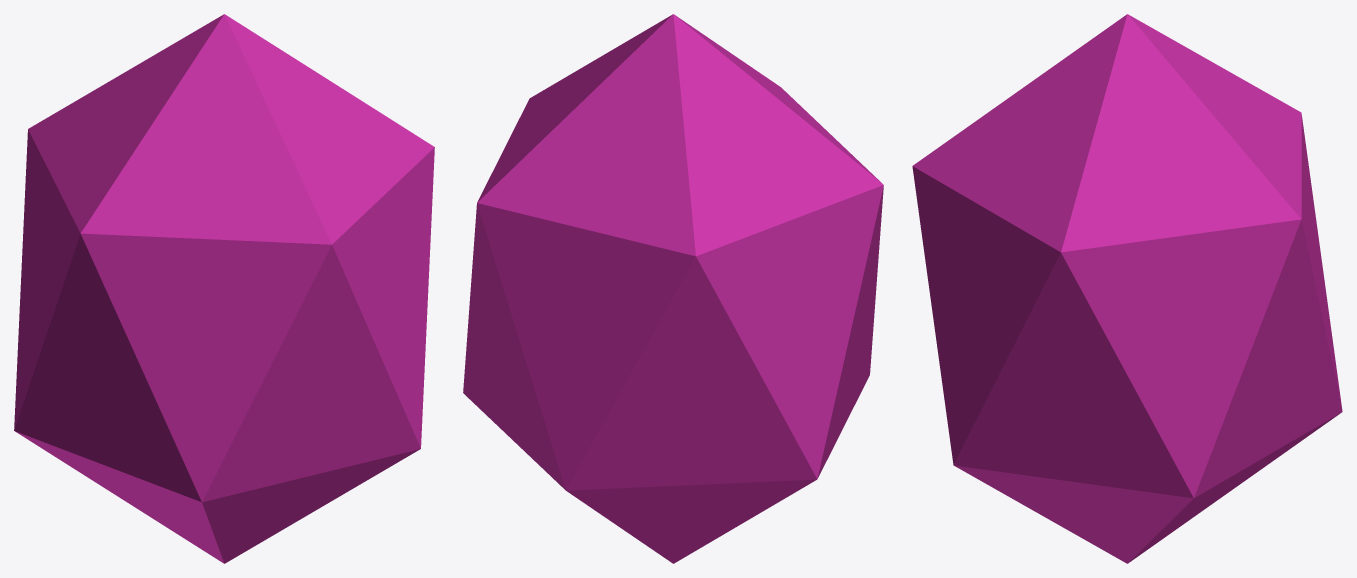
The model's file is gem.glb.
3 renders of one model, left to right at view 1: azimuth 30°, elevation 25°; view 2: azimuth 150°, elevation 25°; view 3: azimuth 270°, elevation 25°, orthographic.
Parts seen in each view (by area): view 1: Mesh_Mesh_head_geo.001_lambert2SG.001; view 2: Mesh_Mesh_head_geo.001_lambert2SG.001; view 3: Mesh_Mesh_head_geo.001_lambert2SG.001.
Part boxes in pixels (x1,y1,x2,y2): Mesh_Mesh_head_geo.001_lambert2SG.001: (14, 14, 434, 563); Mesh_Mesh_head_geo.001_lambert2SG.001: (463, 14, 883, 563); Mesh_Mesh_head_geo.001_lambert2SG.001: (912, 14, 1342, 563).
Bounding box in the file's own units: 0.0162 × 0.024 × 0.017.
